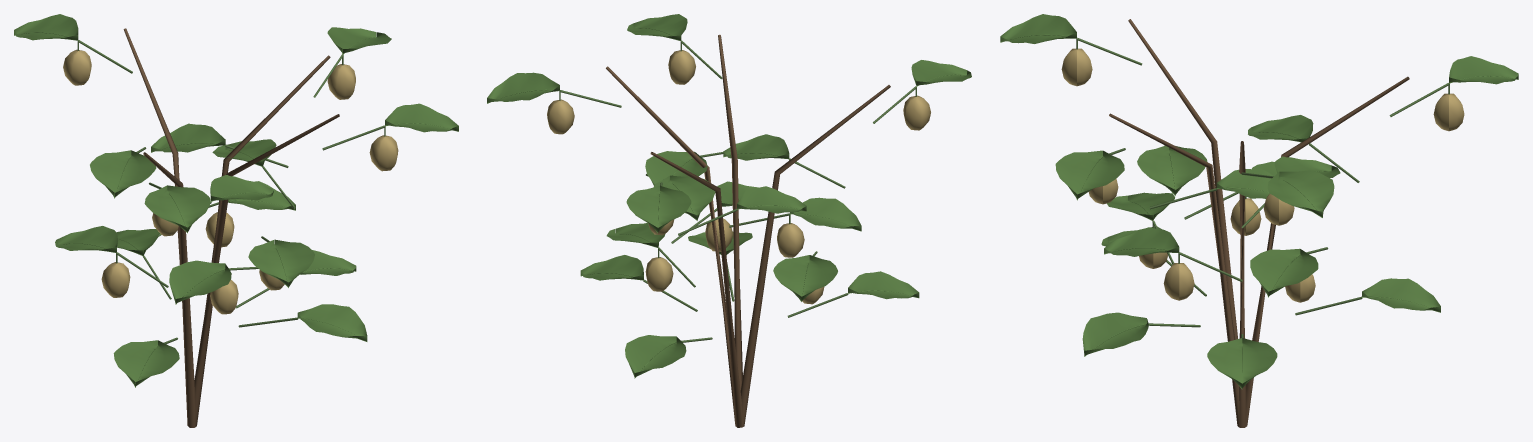
Rendered from uvilla.glb.
3 views of the same model, side by side, from view 1: azimuth 30°, elevation 25°; view 2: azimuth 150°, elevation 25°; view 3: azimuth 270°, elevation 25° (orthographic). The views are drawn at different scales.
Visible parts, largest first — view 1: uvilla; view 2: uvilla; view 3: uvilla.
Boxes of the visible parts, box(x1,y1,x2,y2) form: uvilla: box(14, 14, 458, 427); uvilla: box(487, 14, 971, 427); uvilla: box(1000, 14, 1518, 427).
Size of the model in its own units: 1.06 by 0.9394 by 1.24.
